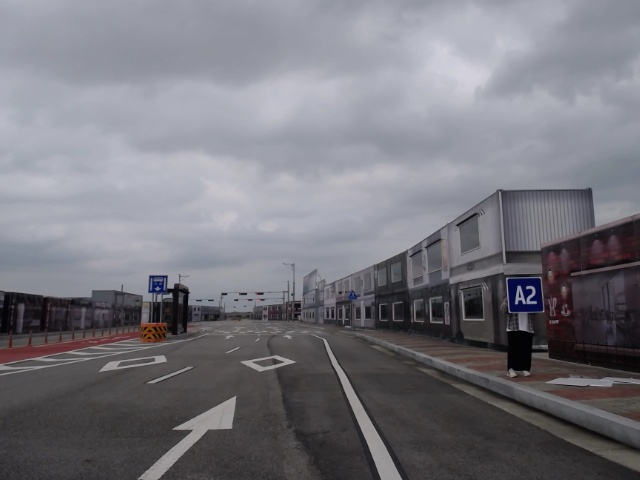delivery_a2: (507, 277, 544, 314)
